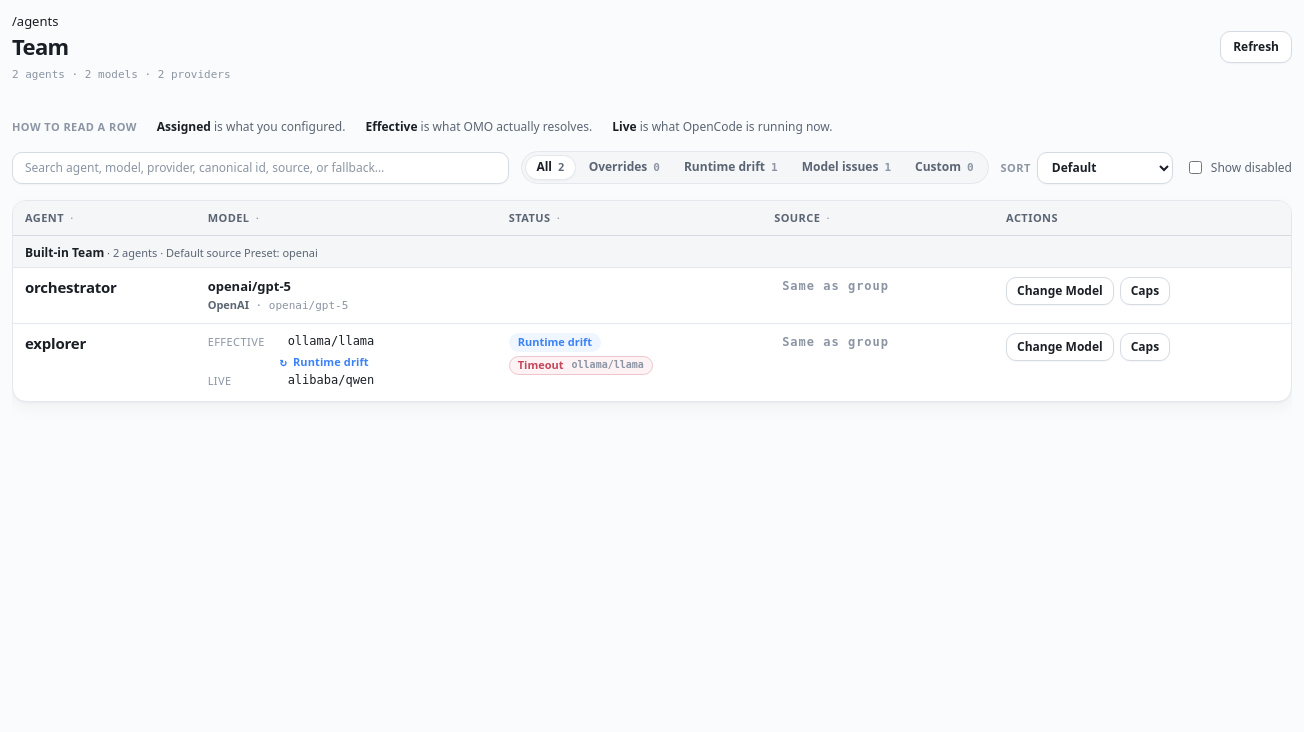
team views — header counts + eligibility (behaviors 2–5) › TeamHeader shows active-Effective counts; Show disabled never changes them
This screenshot has width=1304, height=732.
Expected: the text "2 agents · 2 models · 2 providers" is shown, [12,67,230,83]
Expected: the text "observer" is not shown
Click the checkbox labelled "Show disabled" at (1195, 168), box [1189,161,1202,174]
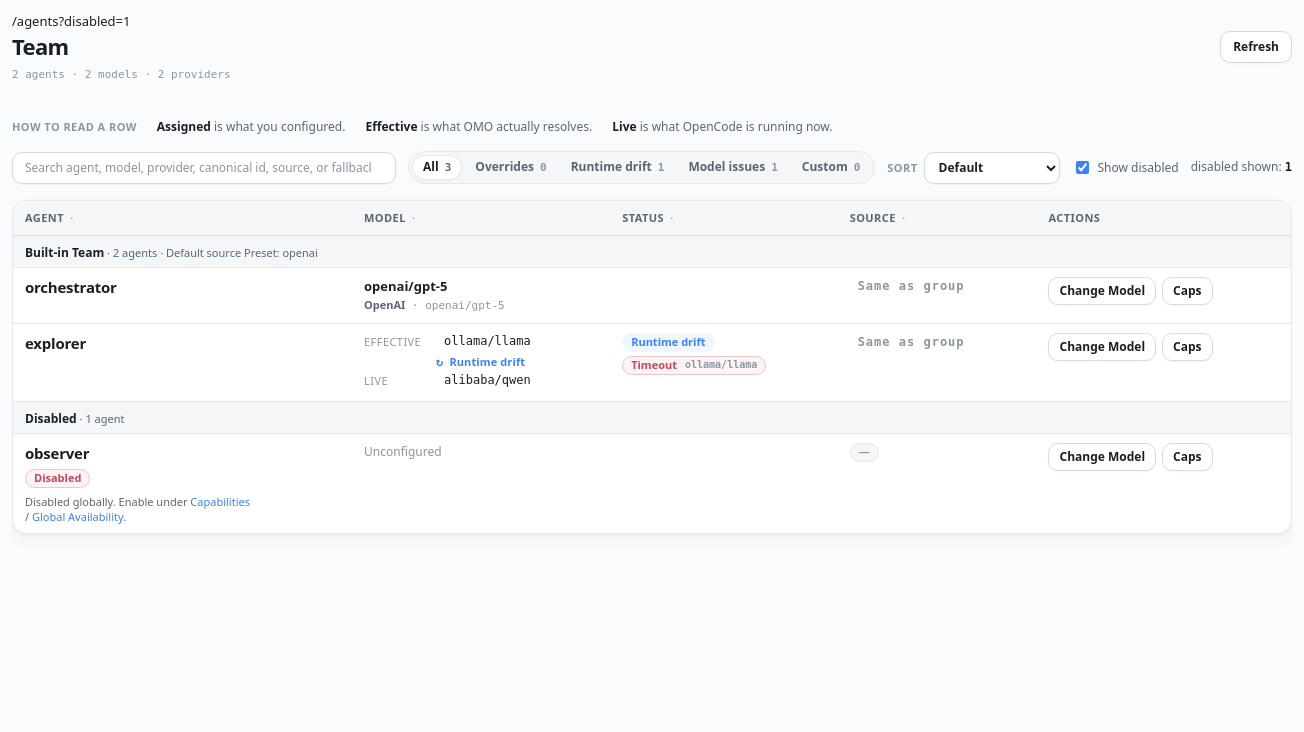
Expected: the 2nd text "Disabled" is shown, [25,469,90,488]
Expected: the element with test id "agents-disabled-shown" reads "disabled shown: 1", [1191,158,1292,177]
Expected: the text with test id "loc" shows "disabled=1", [58,12,130,30]
